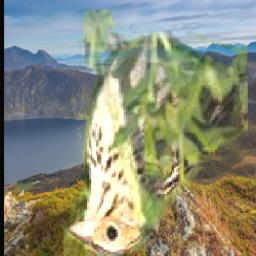Sparrow: (63, 10, 248, 256)
